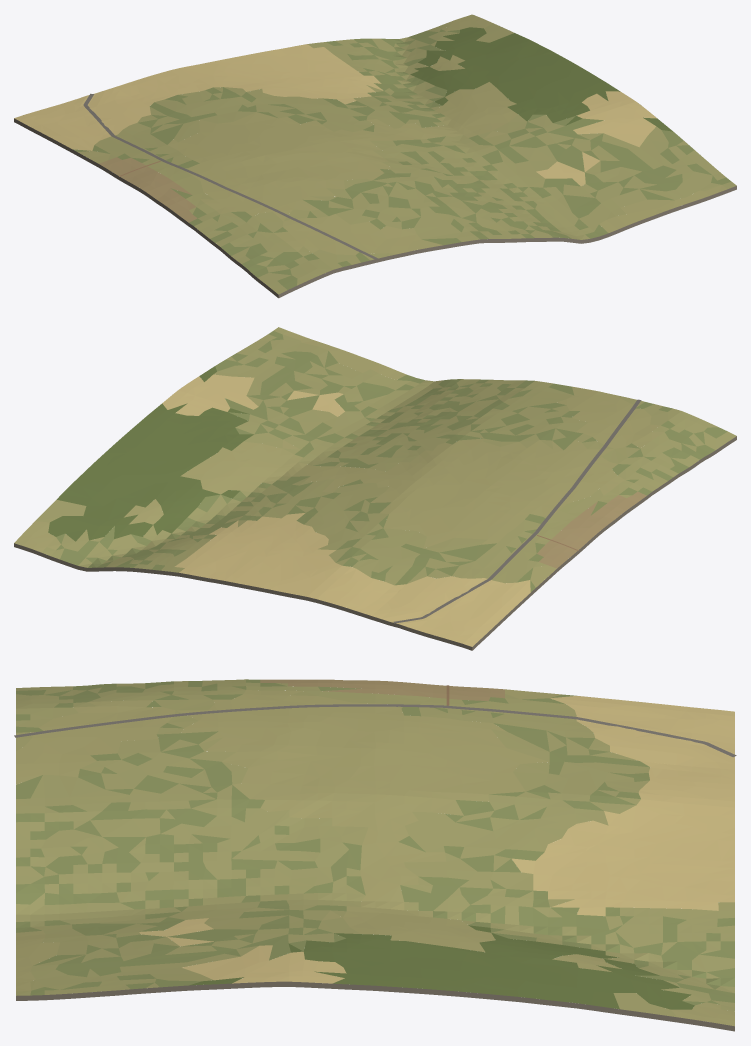
File: parca_+0_+1-uzak.glb
3 views of the same model, one above another, from view 1: azimuth 30°, elevation 25°; view 2: azimuth 150°, elevation 25°; view 3: azimuth 270°, elevation 25° (orthographic). The views are drawn at different scales.
Parts seen in each view (by area): view 1: parca_+0_+1_arazi_uzak, parca_+0_+1_yollar_uzak; view 2: parca_+0_+1_arazi_uzak, parca_+0_+1_yollar_uzak; view 3: parca_+0_+1_arazi_uzak, parca_+0_+1_yollar_uzak.
Part boxes in pixels (x1,y1,x2,y2): parca_+0_+1_arazi_uzak: (14,14,736,298); parca_+0_+1_yollar_uzak: (83,93,377,259); parca_+0_+1_arazi_uzak: (14,327,736,650); parca_+0_+1_yollar_uzak: (393,399,641,623); parca_+0_+1_arazi_uzak: (16,679,734,1031); parca_+0_+1_yollar_uzak: (14,685,736,757).
Bounding box in the file's own units: 1002 × 109 × 1005.
